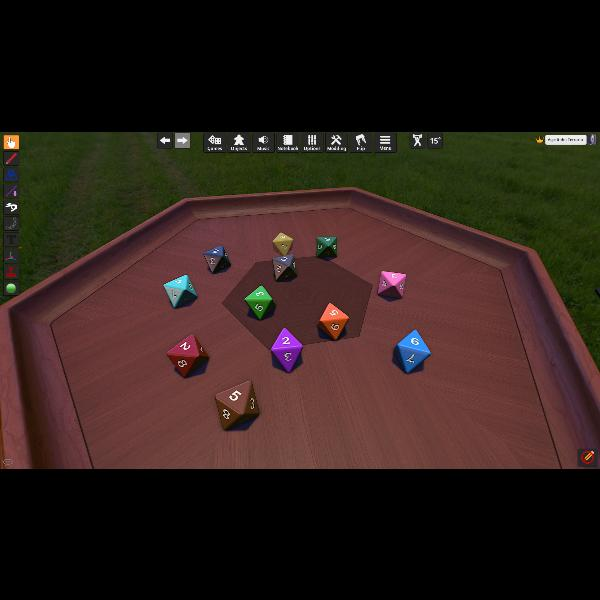d8: (215, 380, 259, 430), (168, 334, 209, 377), (395, 329, 429, 373), (271, 327, 303, 371), (164, 274, 198, 308), (245, 284, 275, 320), (318, 303, 348, 339), (204, 245, 231, 273), (378, 270, 404, 298), (272, 254, 298, 280), (272, 232, 294, 256), (316, 236, 336, 258)
